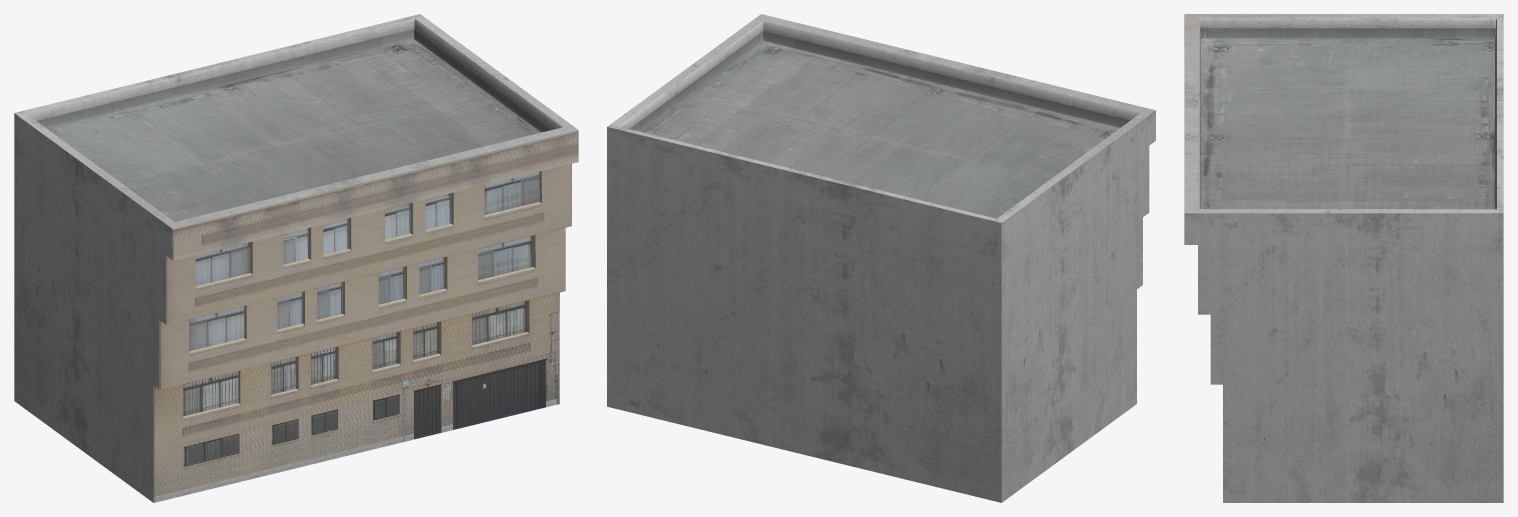
The model's file is building02.fbx.
3 renders of one model, left to right at view 1: azimuth 30°, elevation 25°; view 2: azimuth 150°, elevation 25°; view 3: azimuth 270°, elevation 25°, orthographic. The views are drawn at different scales.
Visible parts, largest first — view 1: Rectangle01; view 2: Rectangle01; view 3: Rectangle01.
Boxes of the visible parts, x1,y1,x2,y2 form: Rectangle01: (14,14,578,502); Rectangle01: (607,14,1155,502); Rectangle01: (1184,14,1503,502).
Size of the model in its own units: 1997 by 1353 by 1353.
